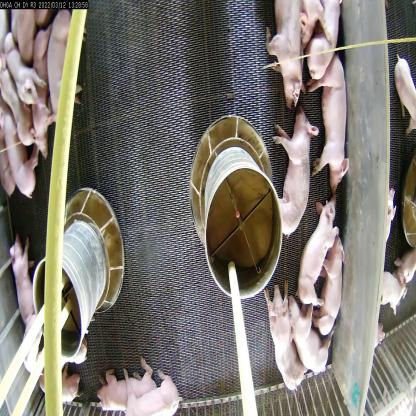Pig: (270, 102, 316, 235), (263, 0, 312, 114), (314, 46, 352, 186), (298, 188, 337, 314), (44, 16, 89, 122), (265, 296, 302, 390), (292, 298, 333, 372), (95, 362, 148, 415), (320, 238, 348, 338), (4, 230, 34, 320), (123, 375, 180, 415)
